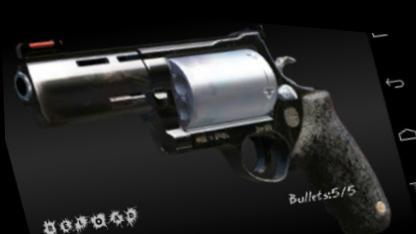pistol: (3, 0, 394, 233)
